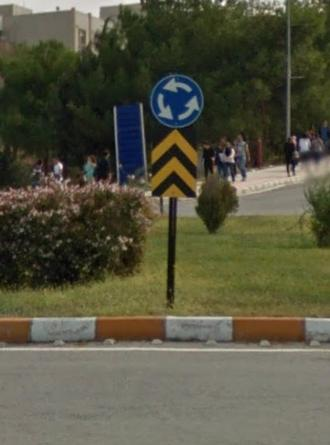crossroads: (152, 72, 202, 125)
